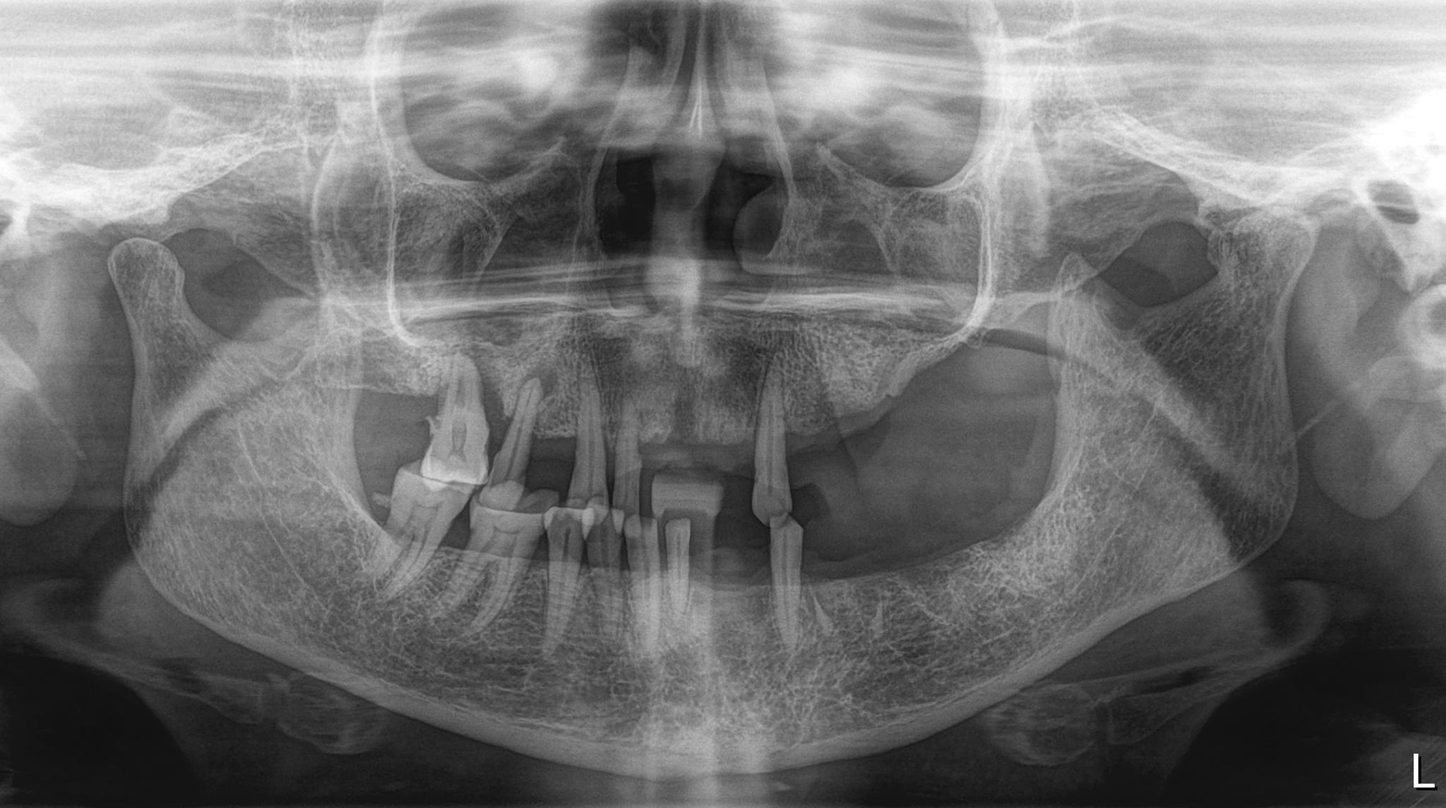Endodontically Treated Tooth: (385, 477, 454, 614), (462, 482, 523, 628), (429, 360, 492, 486)
Missing Tooth: (987, 320, 1044, 466), (805, 528, 872, 652), (916, 353, 976, 469), (344, 362, 410, 465), (881, 521, 936, 642), (798, 367, 855, 481), (860, 362, 913, 483), (999, 503, 1044, 634), (710, 385, 756, 494), (660, 388, 700, 500), (951, 512, 991, 624), (530, 403, 570, 480)
Periodontal Pocket: (545, 509, 773, 674)
